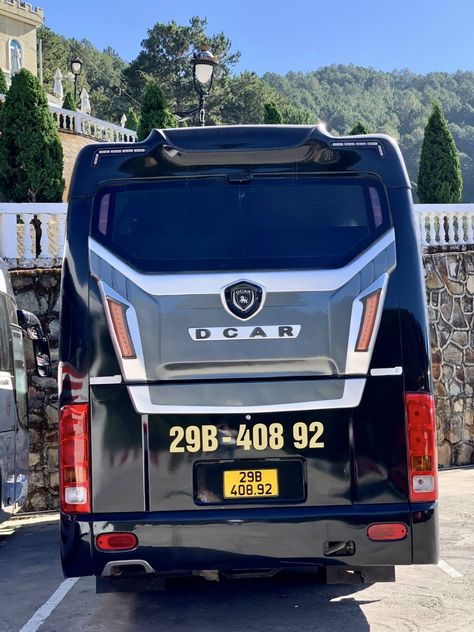number-plate: (223, 468, 278, 496)
